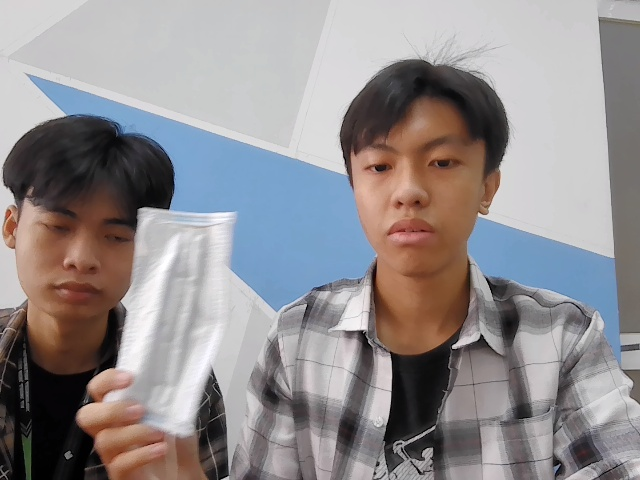human: (335, 51, 509, 274), (3, 108, 138, 302)
mask: (117, 196, 248, 445)
